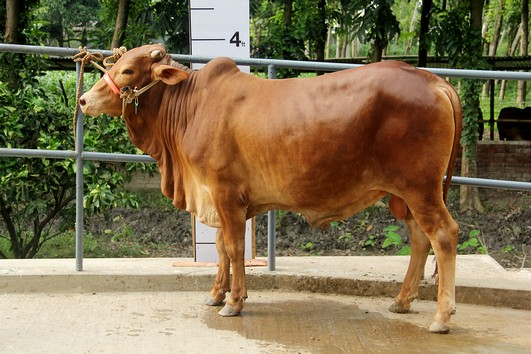cow: (75, 37, 467, 341)
